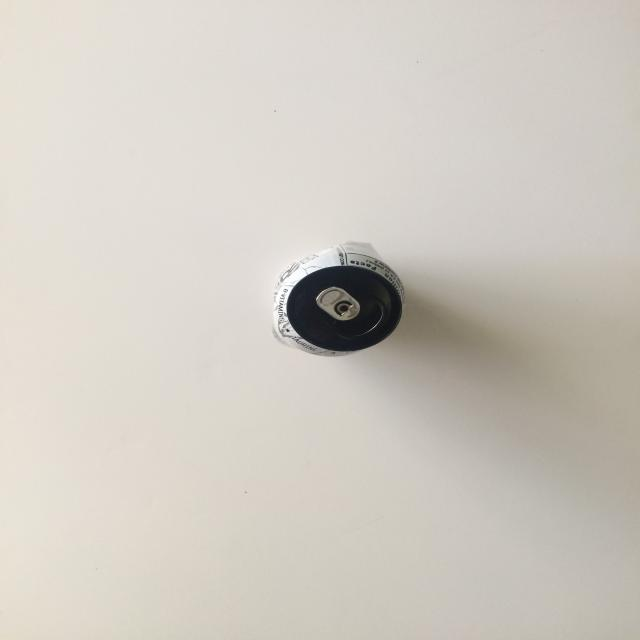metal: (270, 240, 406, 358)
